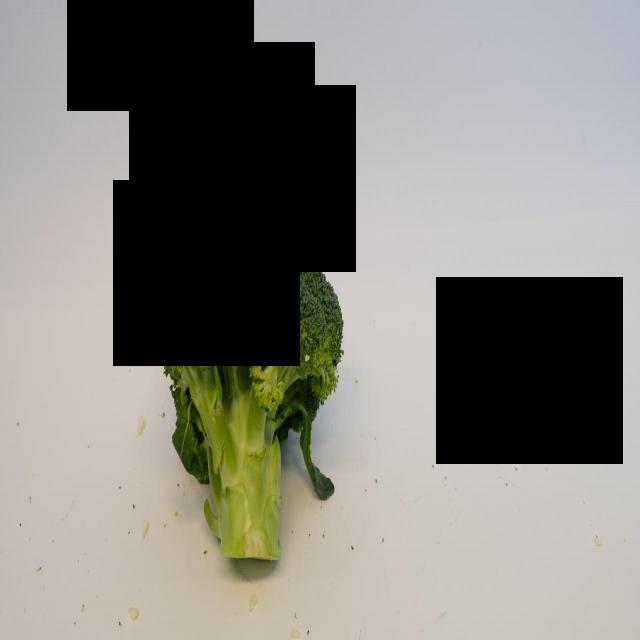broccoli: (151, 192, 345, 565)
